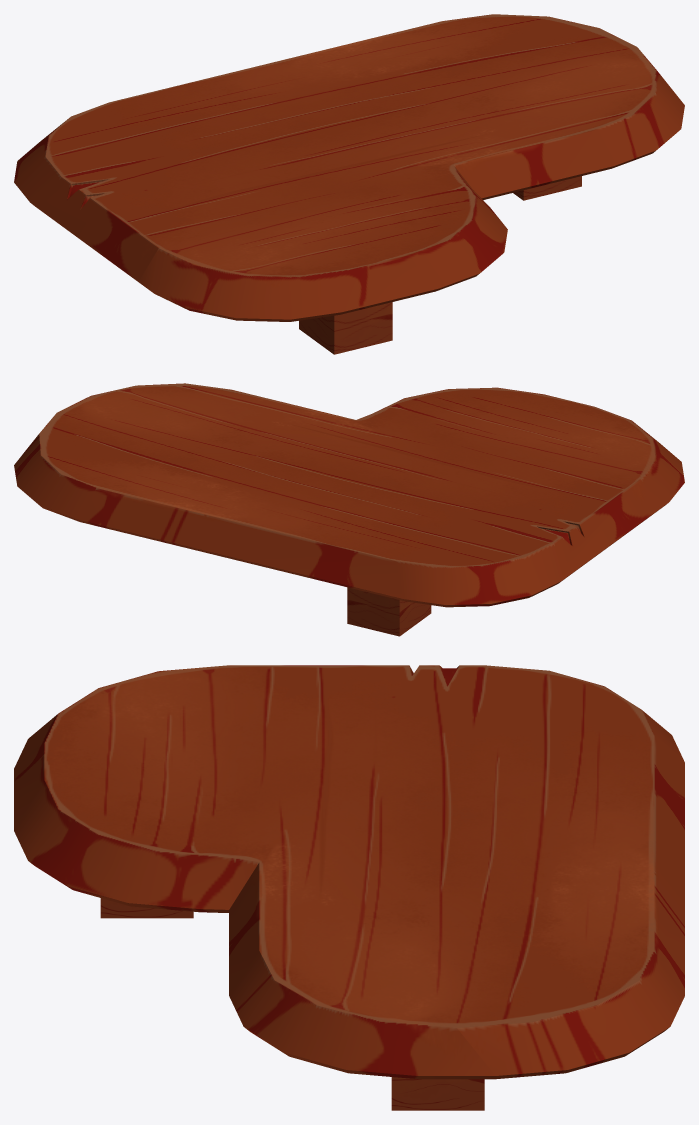
File: MesaSUP1.obj
3 views of the same model, one above another, from view 1: azimuth 30°, elevation 25°; view 2: azimuth 150°, elevation 25°; view 3: azimuth 270°, elevation 25° (orthographic). The views are drawn at different scales.
Parts seen in each view (by area): view 1: MesaA_pCube5; view 2: MesaA_pCube5; view 3: MesaA_pCube5.
Part boxes in pixels (x1,y1,x2,y2): MesaA_pCube5: (14,14,684,354); MesaA_pCube5: (14,383,684,636); MesaA_pCube5: (14,665,684,1110).
Size of the model in its own units: 2.05 by 0.3329 by 1.51.
2 materials, 2 textured.
